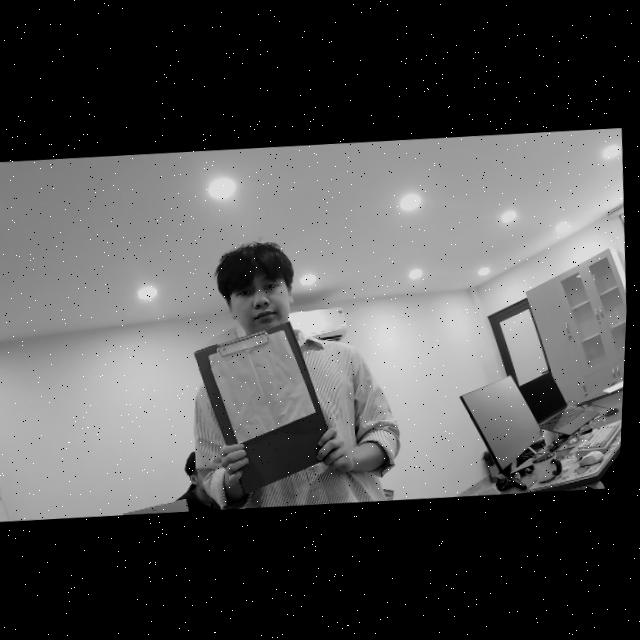face: (230, 270, 294, 340)
